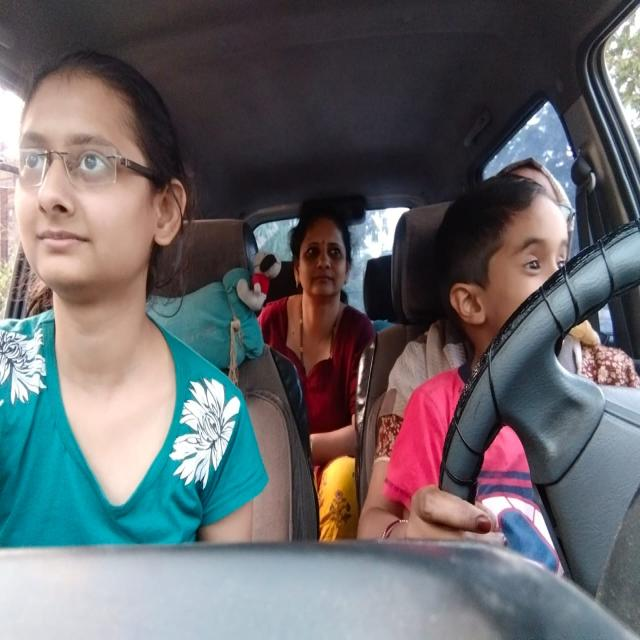child: (443, 181, 581, 332)
person: (16, 48, 191, 284), (290, 210, 357, 306)
